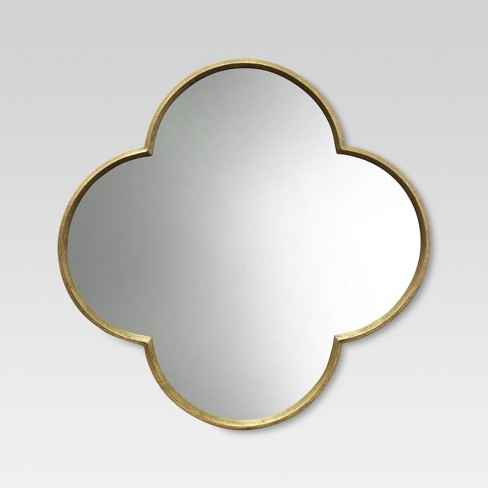Nonrec_Glass: (38, 47, 439, 439)
